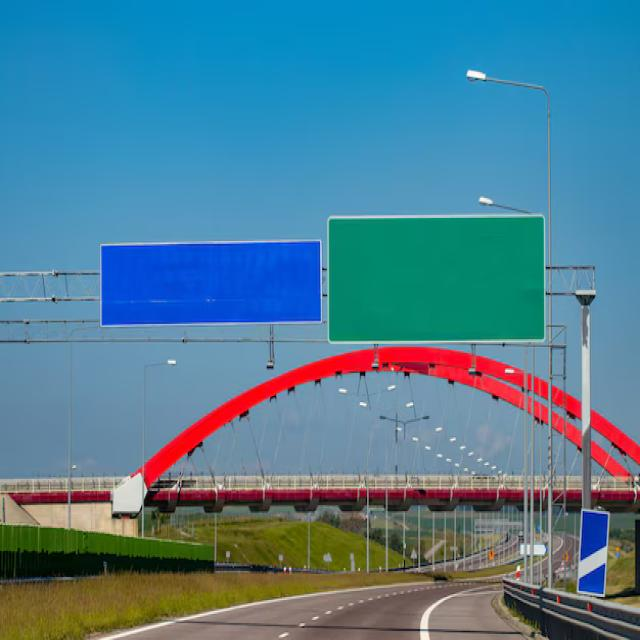Billboard_RHS: (573, 504, 615, 608)
Billboard_overhead: (329, 215, 543, 344), (98, 242, 322, 328)
Roadcorner: (102, 579, 373, 638)
Roadlane: (259, 581, 436, 638), (578, 586, 583, 587)
